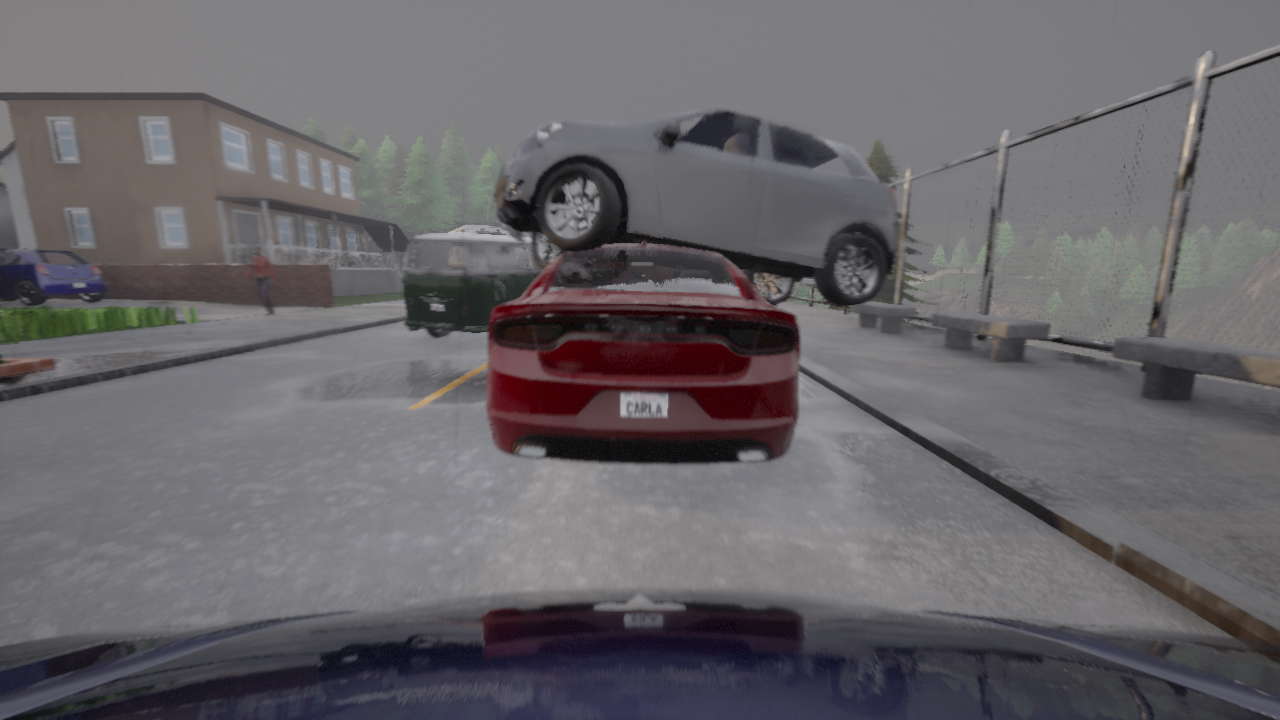cyclist: (0, 588, 1279, 719), (493, 108, 896, 305), (486, 237, 799, 463), (403, 233, 542, 336), (0, 248, 106, 305), (449, 225, 531, 236)
pedestrian: (244, 245, 275, 316)
